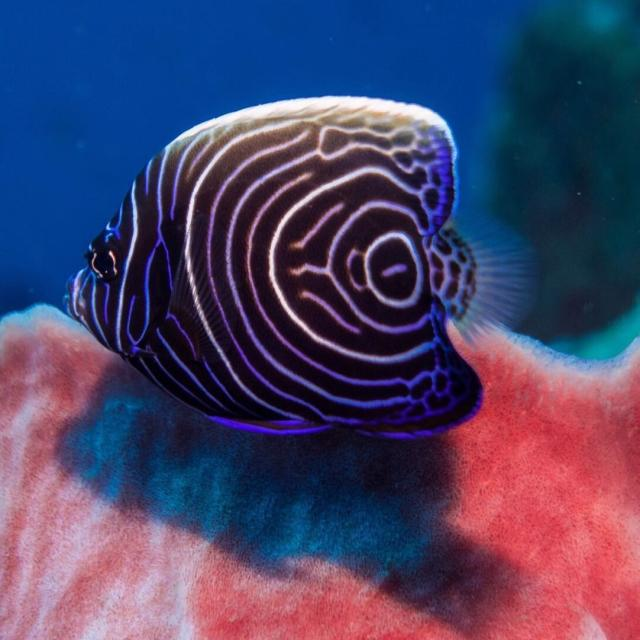AngelFish: (70, 94, 532, 442)
